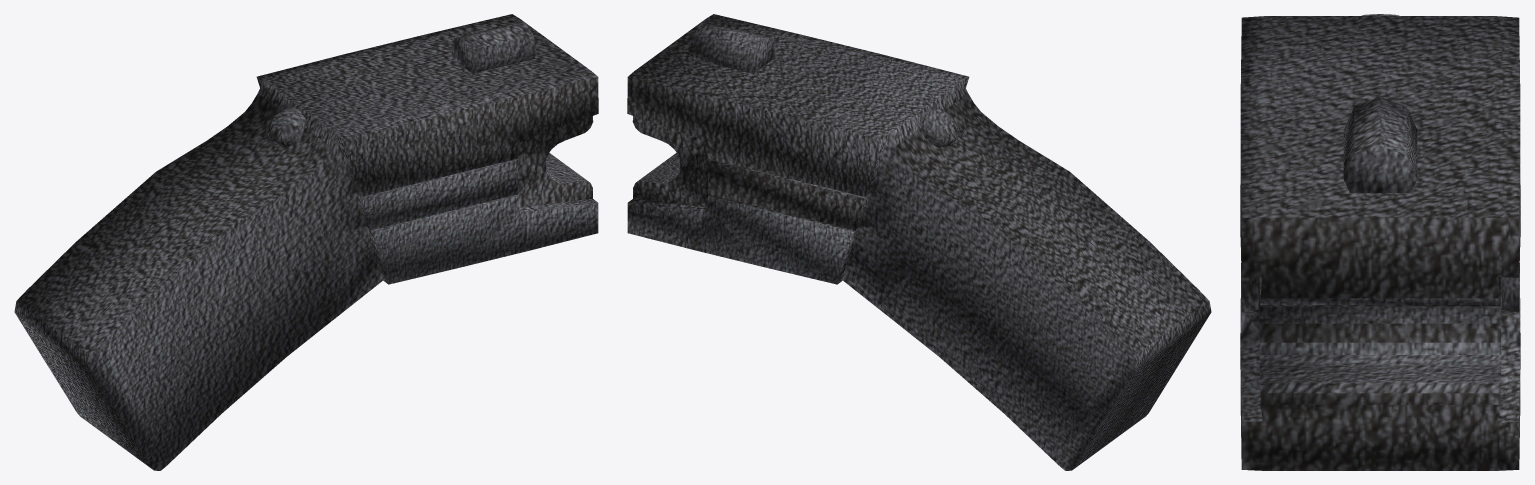
Rendered from RemoteTaser.glb.
The picture shows the model from 3 angles, left to right: view 1: azimuth 30°, elevation 25°; view 2: azimuth 150°, elevation 25°; view 3: azimuth 270°, elevation 25°; orthographic projection. The views are drawn at different scales.
Visible parts, largest first — view 1: NurbsPath.001; view 2: NurbsPath.001; view 3: NurbsPath.001.
Part boxes in pixels (box(x1,y1,x2,y2)): NurbsPath.001: box(14, 14, 598, 470); NurbsPath.001: box(627, 14, 1211, 470); NurbsPath.001: box(1240, 14, 1520, 470).
Size of the model in its own units: 2.9 by 1.77 by 0.8661.
1 material, 1 textured.
